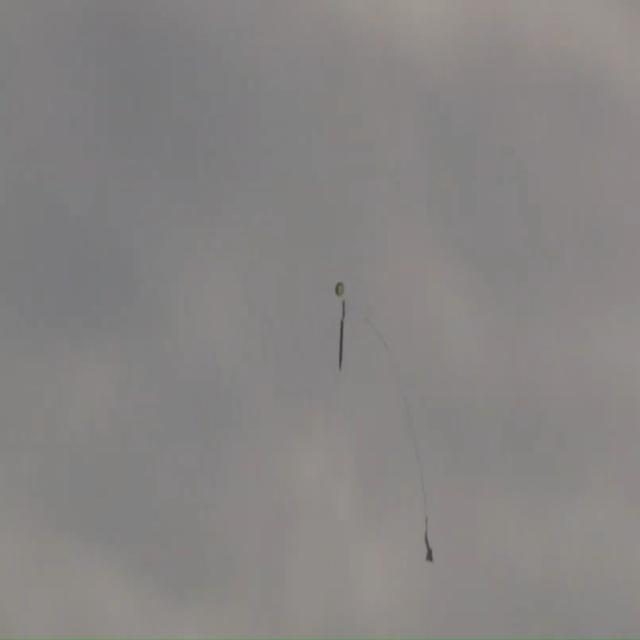Rocket: (423, 529, 433, 562)
